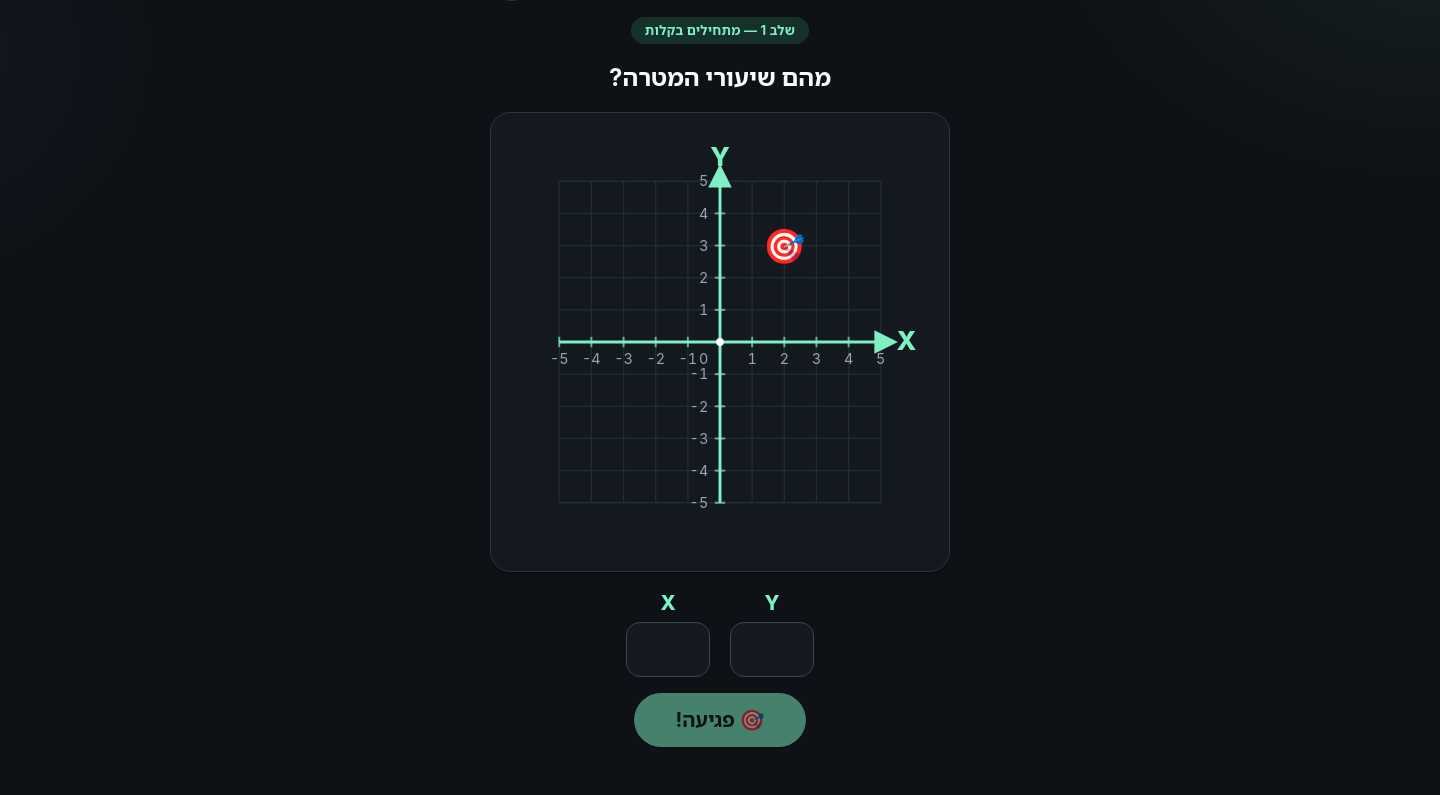
Test: Hit the Target › advances on a correct answer and shows the completion screen after the last target
(page scrolled)
In the field labelled "X": (668, 650) [626,622,710,677], type "2"
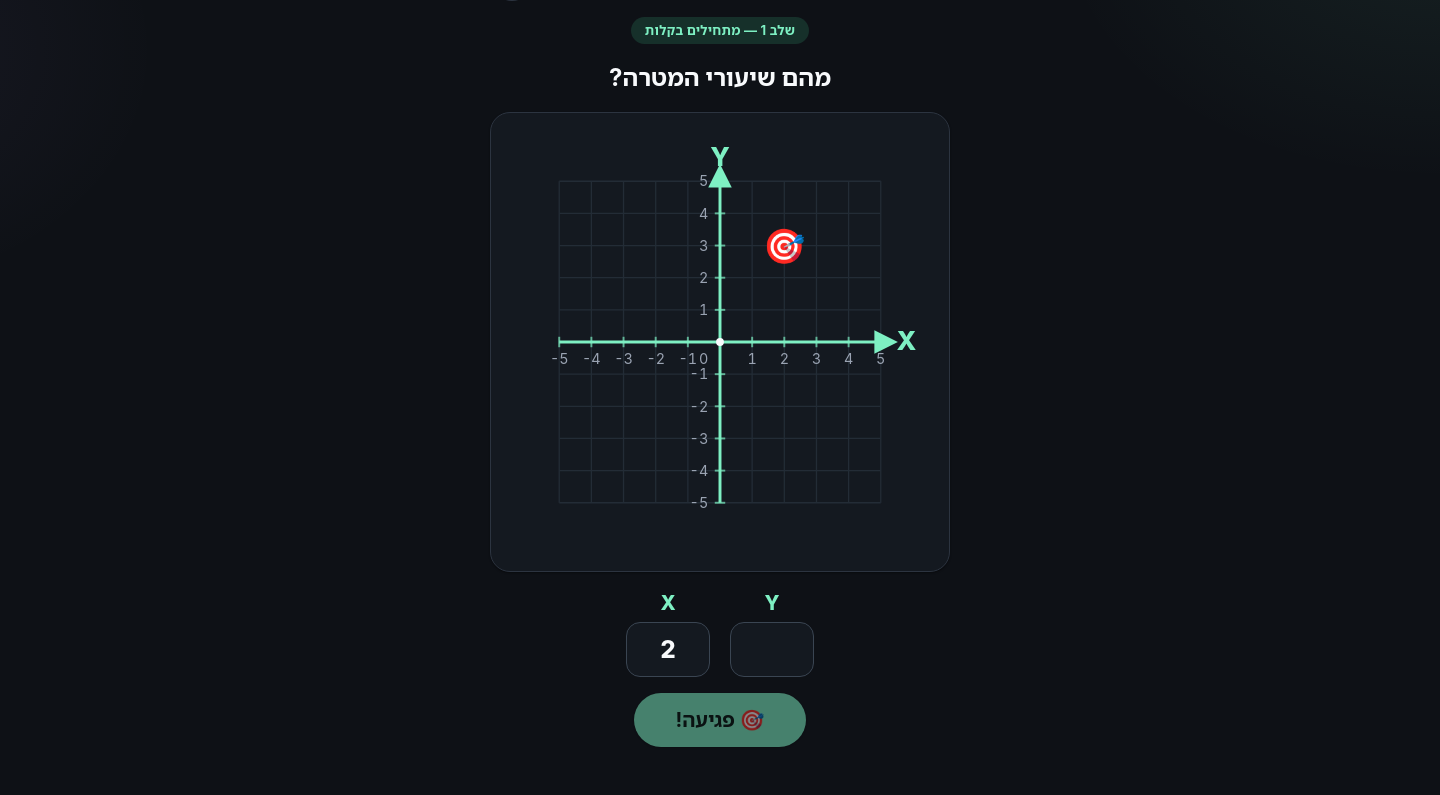
In the field labelled "Y": (772, 650) [730,622,814,677], type "3"
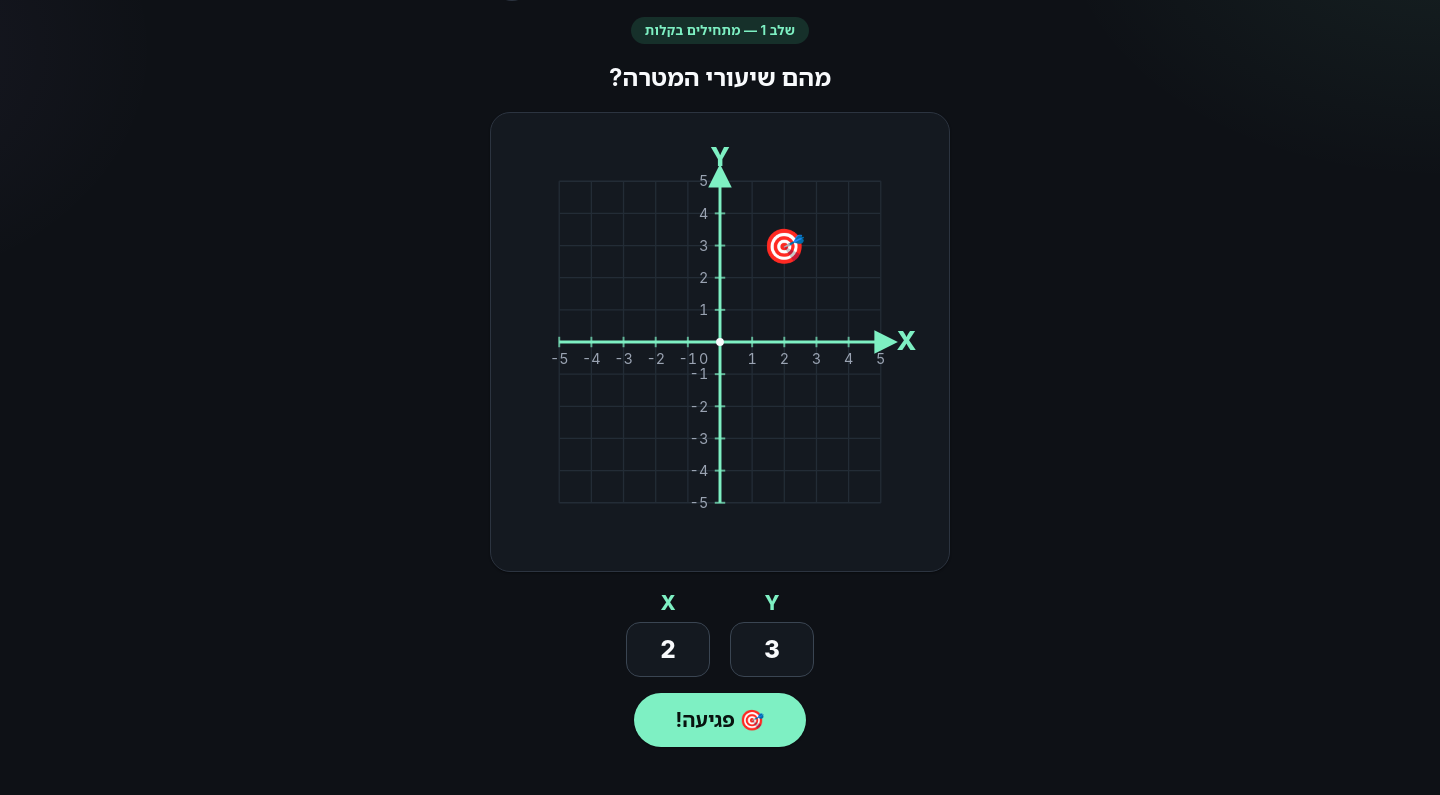
Click the button "🎯 פגיעה!": (720, 720) [634,693,806,747]
Wait 900 ms
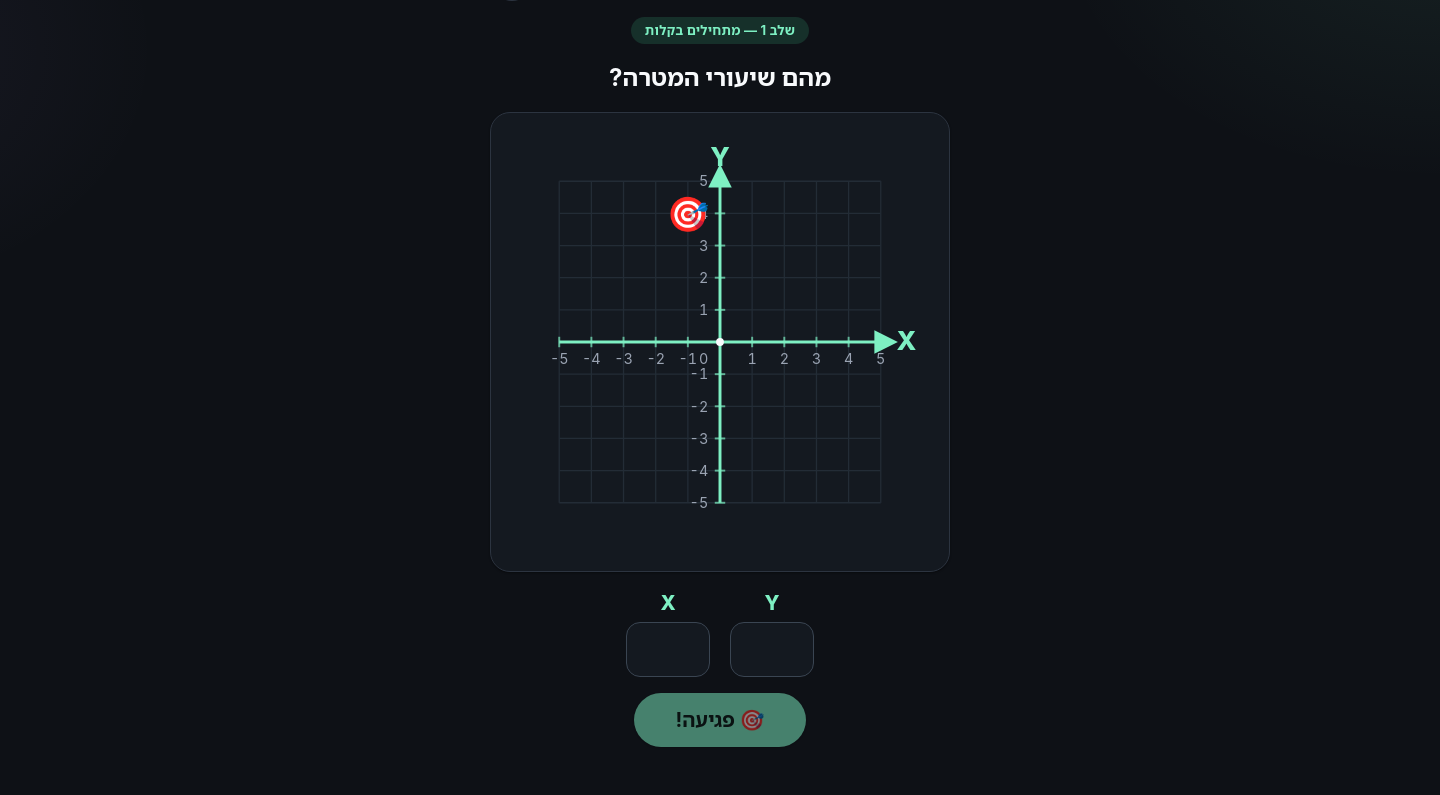
In the field labelled "X": (668, 650) [626,622,710,677], type "-1"
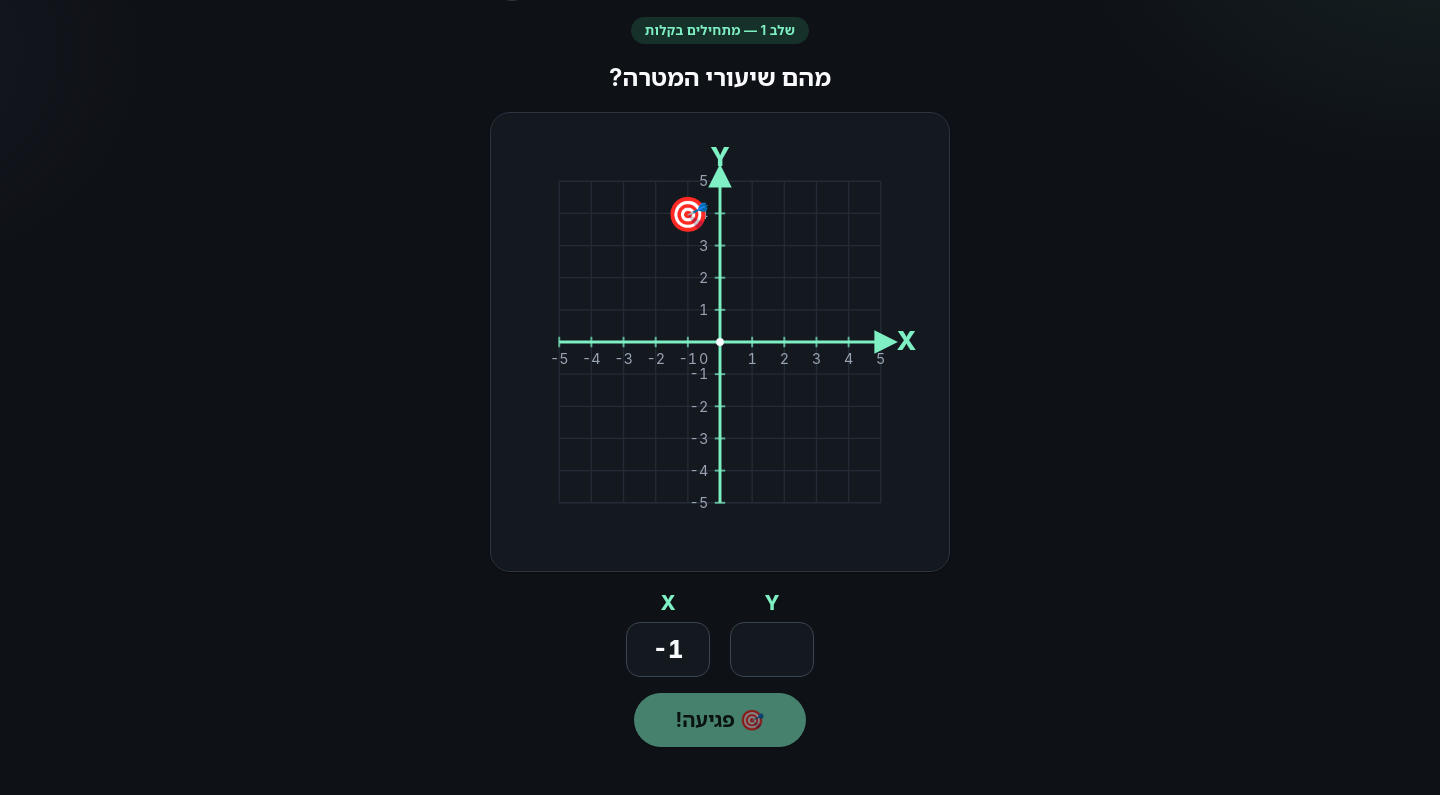
In the field labelled "Y": (772, 650) [730,622,814,677], type "4"
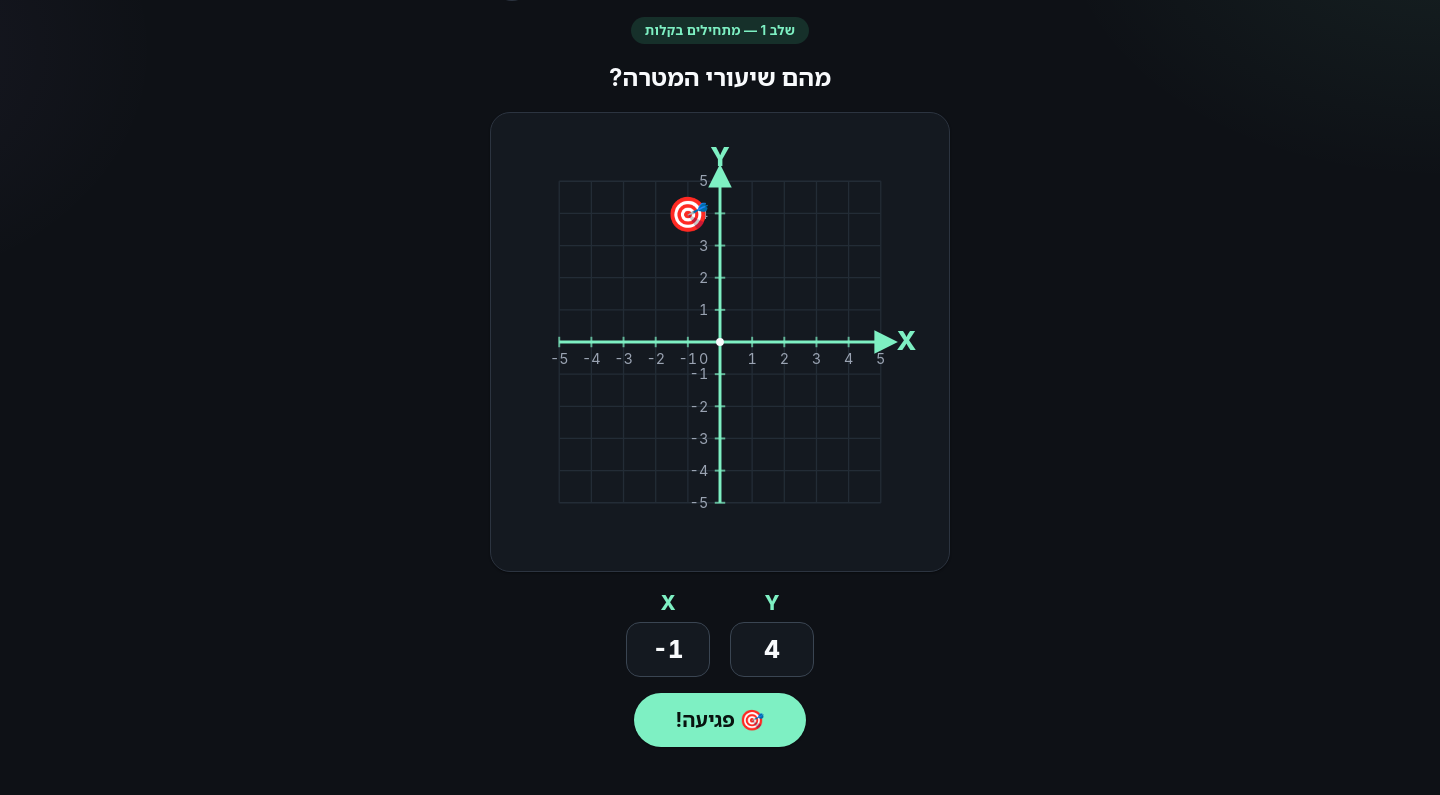
Click the button "🎯 פגיעה!": (720, 720) [634,693,806,747]
Wait 900 ms
(page scrolled)
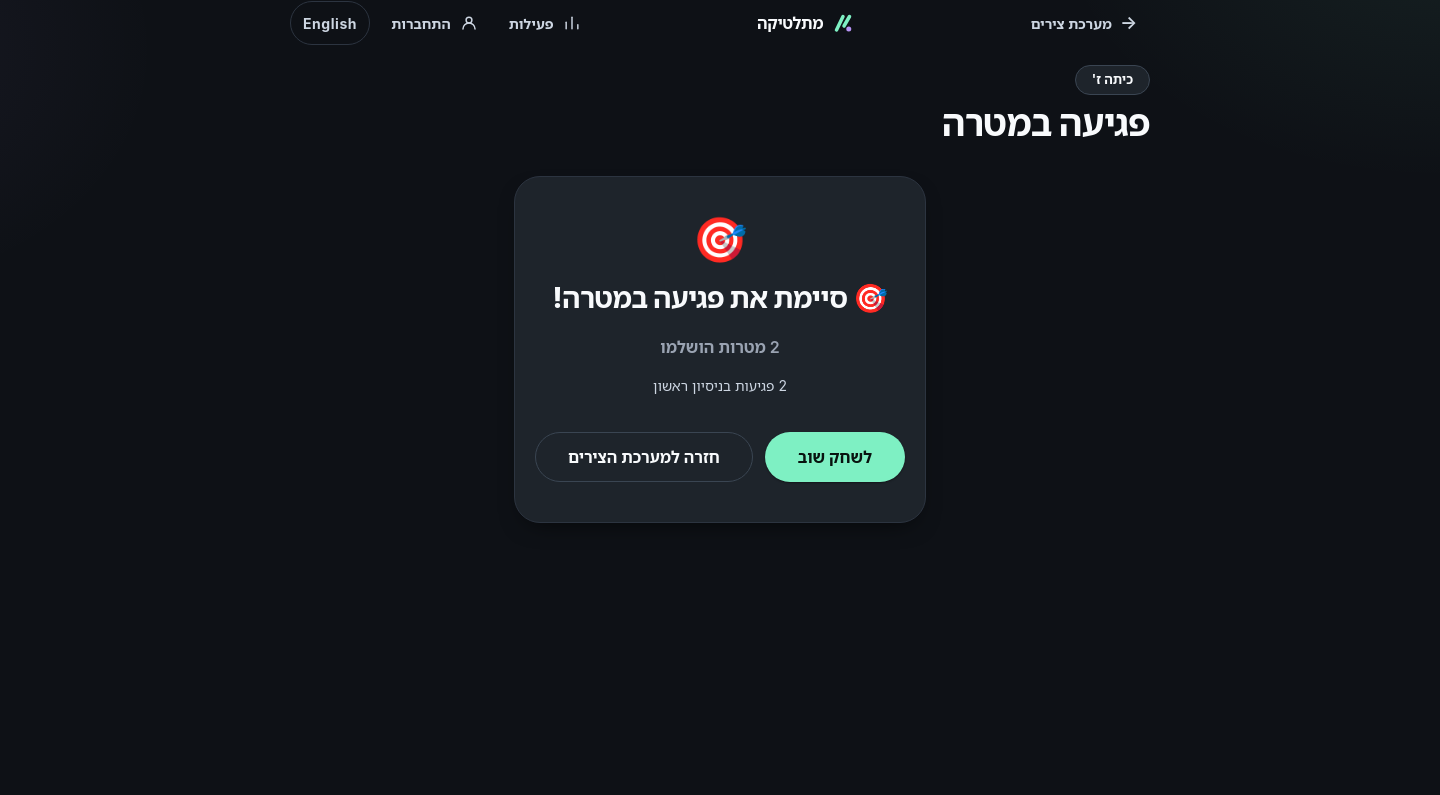
Expected: the heading "🎯 סיימת את פגיעה במטרה!" is shown, [553,277,887,319]
Expected: the button "לשחק שוב" is shown, [765,432,905,482]
